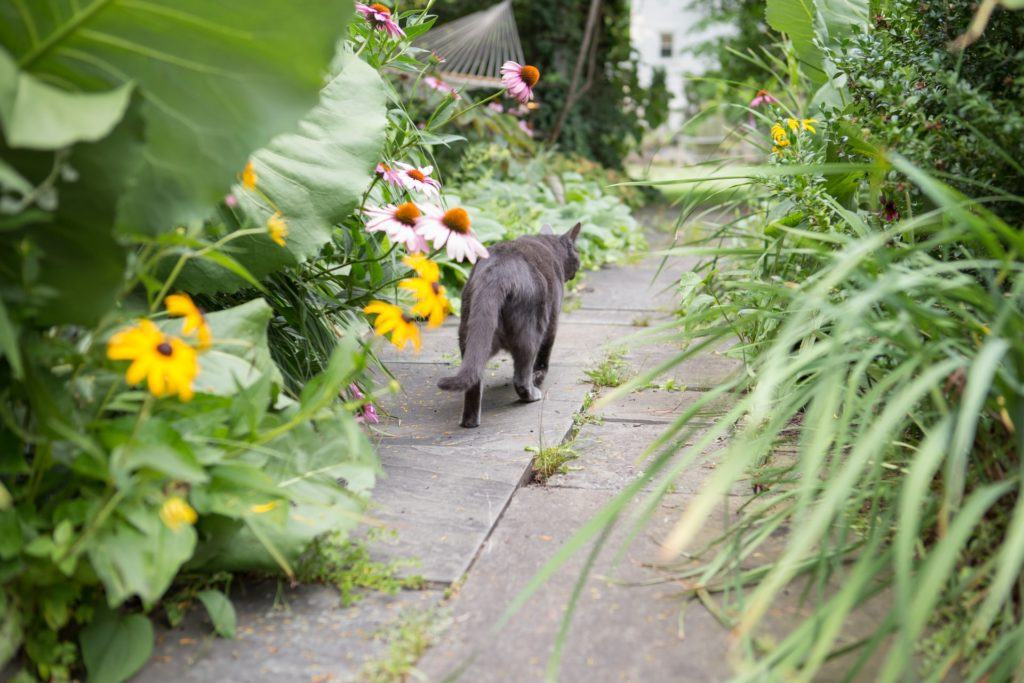cat: (440, 227, 583, 425)
